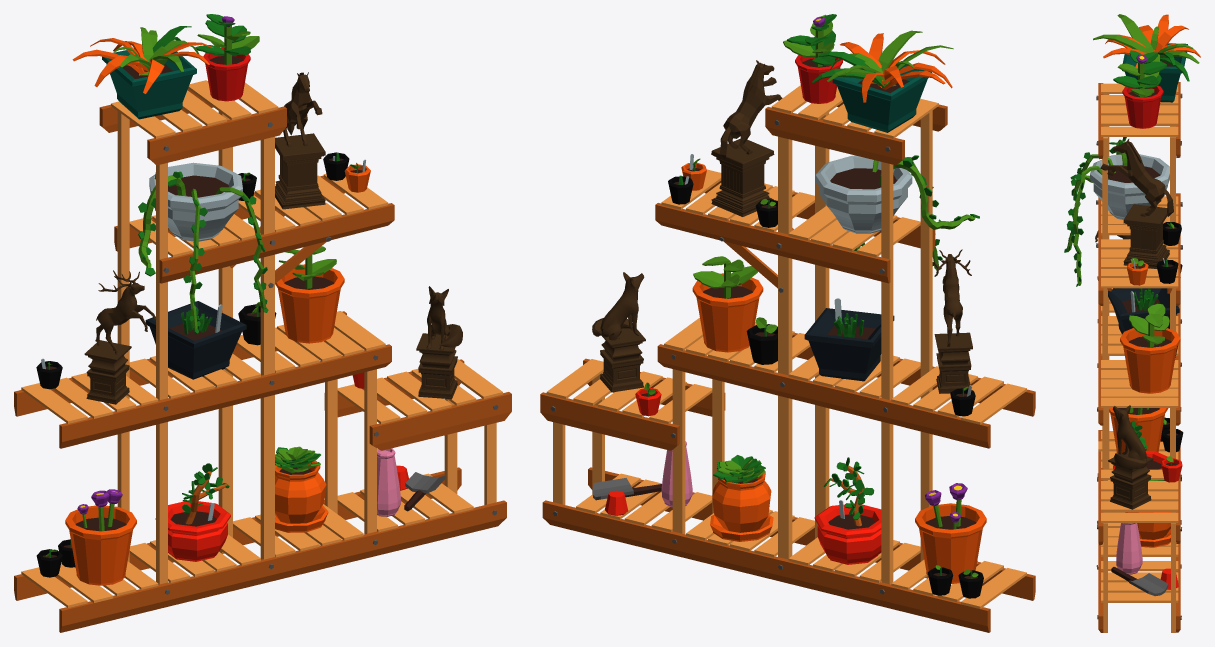
The model's file is shelf.fbx.
3 renders of one model, left to right at view 1: azimuth 30°, elevation 25°; view 2: azimuth 150°, elevation 25°; view 3: azimuth 270°, elevation 25°, orthographic. The views are drawn at different scales.
Parts seen in each view (by area): view 1: group329520873, group188964254, group1246536235, group1796822198, group492750791, Pedestal, group681955559, group190984041, group211612252, Statue_Stag, group1960316096, Statue_Fox (+6 smaller); view 2: group329520873, group188964254, Pedestal, group1796822198, group681955559, group492750791, group1246536235, group190984041, group211612252, Statue_Fox, Statue_Stag, group1960316096 (+4 smaller); view 3: group329520873, group1796822198, Pedestal, group188964254, Statue_Fox, group1960316096, group681955559, group492750791, group1246536235, group929991637, group760987982, group211612252 (+9 smaller).
Boxes of the visible parts, x1,y1,x2,y2 form: group329520873: [14, 80, 511, 632]; group188964254: [72, 26, 213, 119]; group1246536235: [65, 489, 136, 585]; group1796822198: [275, 246, 344, 343]; group492750791: [145, 301, 246, 379]; Pedestal: [275, 72, 325, 209]; group681955559: [149, 162, 242, 241]; group190984041: [155, 463, 230, 561]; group211612252: [275, 446, 328, 532]; Statue_Stag: [84, 270, 156, 404]; group1960316096: [195, 14, 259, 101]; Statue_Fox: [416, 286, 462, 399]; group329520873: [540, 85, 1035, 632]; group188964254: [812, 30, 953, 132]; Pedestal: [711, 60, 782, 216]; group1796822198: [692, 256, 763, 352]; group681955559: [815, 155, 912, 233]; group492750791: [804, 298, 894, 381]; group1246536235: [915, 483, 986, 583]; group190984041: [814, 457, 881, 564]; group211612252: [710, 455, 773, 541]; Statue_Fox: [592, 272, 645, 392]; Statue_Stag: [933, 249, 972, 393]; group1960316096: [783, 14, 842, 103]; group329520873: [1096, 82, 1182, 632]; group1796822198: [1120, 303, 1180, 393]; Pedestal: [1100, 139, 1173, 268]; group188964254: [1093, 14, 1200, 102]; Statue_Fox: [1108, 405, 1153, 509]; group1960316096: [1113, 50, 1167, 128]; group681955559: [1090, 154, 1169, 219]; group492750791: [1108, 288, 1179, 334]; group1246536235: [1109, 408, 1168, 453]; group929991637: [1116, 523, 1142, 574]; group760987982: [1066, 166, 1108, 286]; group211612252: [1125, 480, 1170, 547].
Bounding box in the file's own units: 1.84 × 2.16 × 0.5647.
